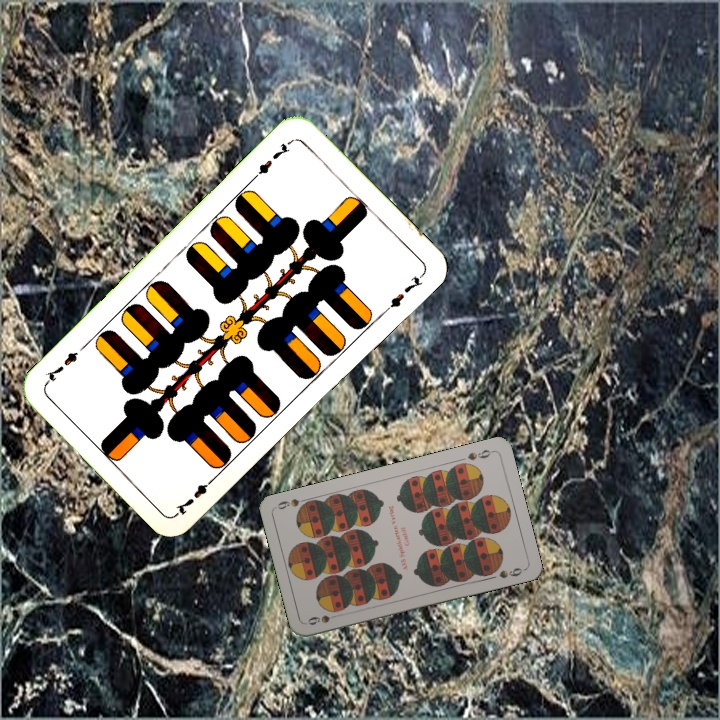E7: (171, 472, 219, 517), (249, 136, 295, 182)
S9: (464, 446, 496, 463), (303, 611, 332, 628)
